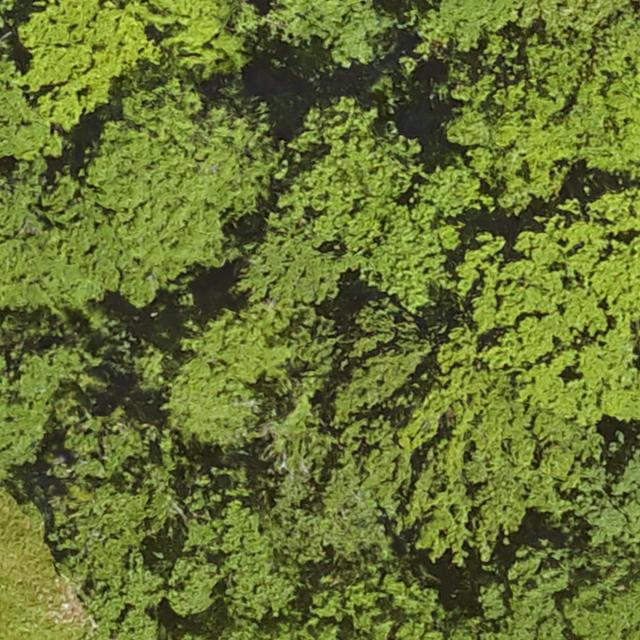tree: (218, 151, 640, 547), (0, 0, 264, 283), (54, 428, 281, 635), (427, 0, 640, 185)
